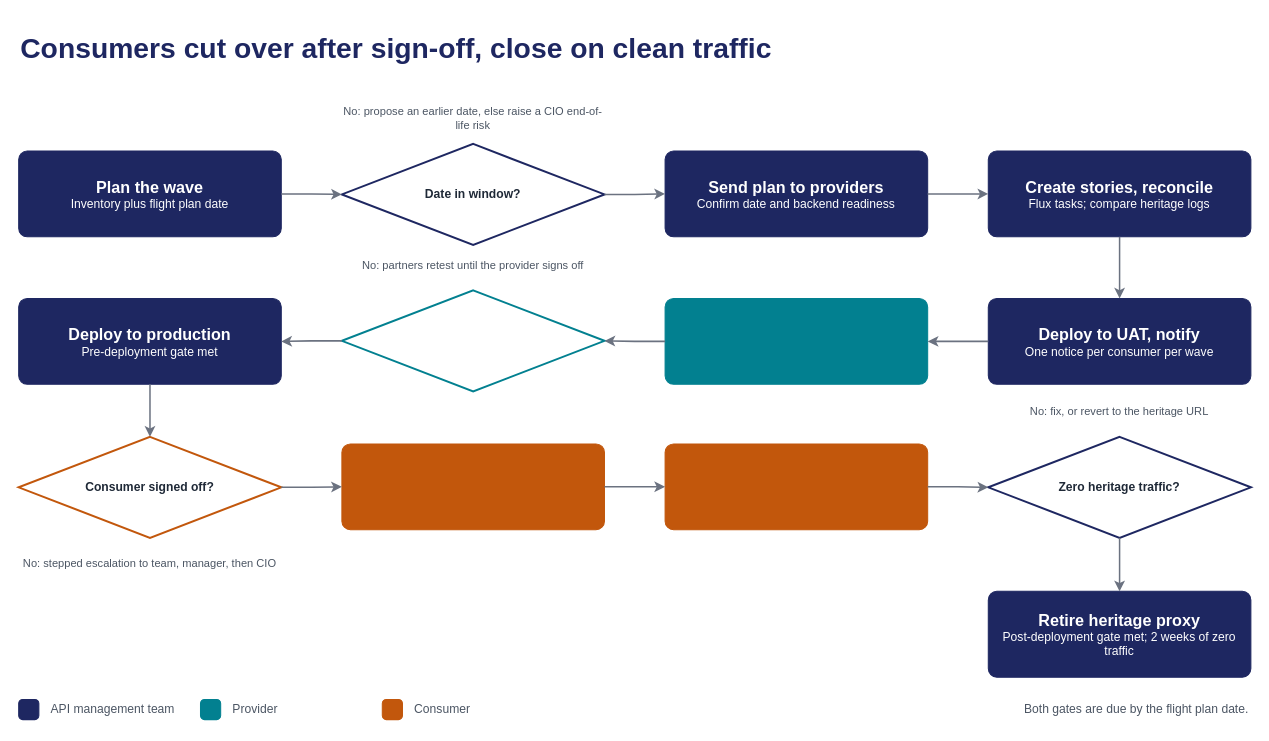
The diagram is 1269 pixels wide and 741 high, and some of its shapes have lost their labels. Here are the shapes that lost their labels. From the top down, the box of each, then its label:
(340, 289, 605, 392): Provider signed off?
(664, 297, 928, 384): Partner testing in UAT Provider coordinates, consumers test
(341, 443, 604, 530): Consumer cuts over Updates URL in weeks 1 to 3
(664, 443, 928, 530): Close the cutover Raises ticket, closes its TCI item
